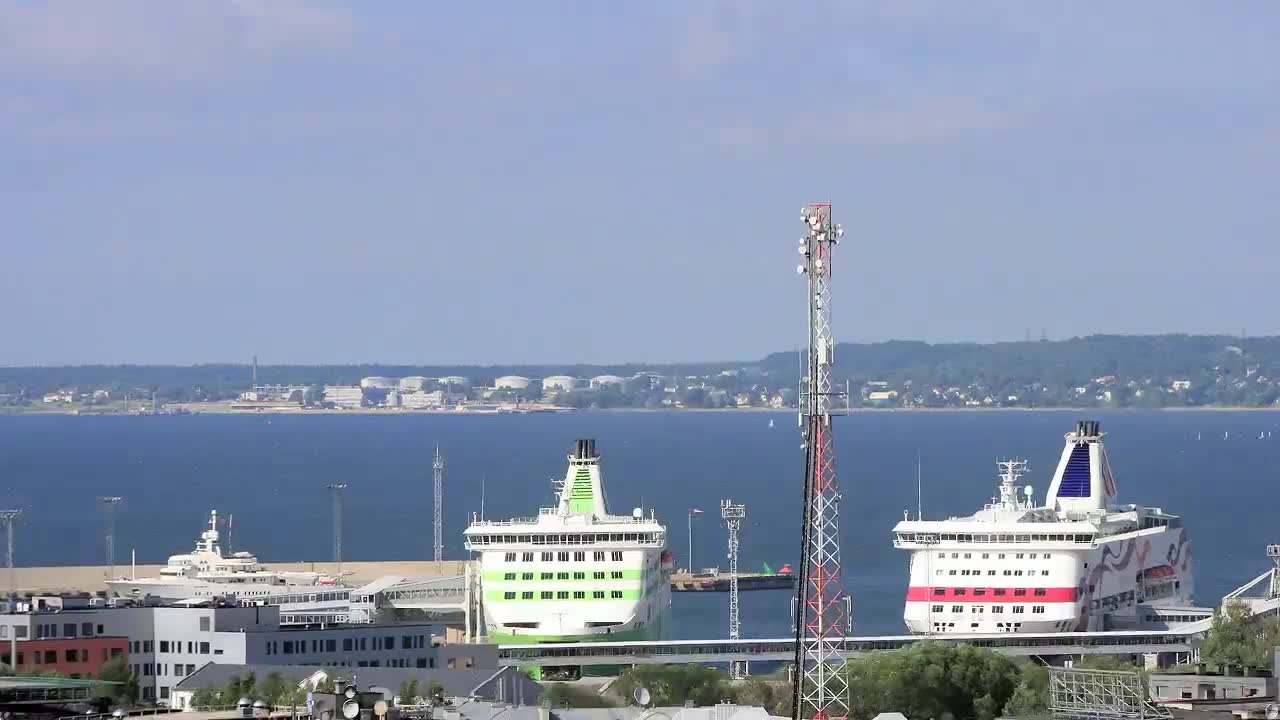type-3: (868, 415, 1225, 638), (436, 434, 694, 670), (80, 520, 392, 637)
